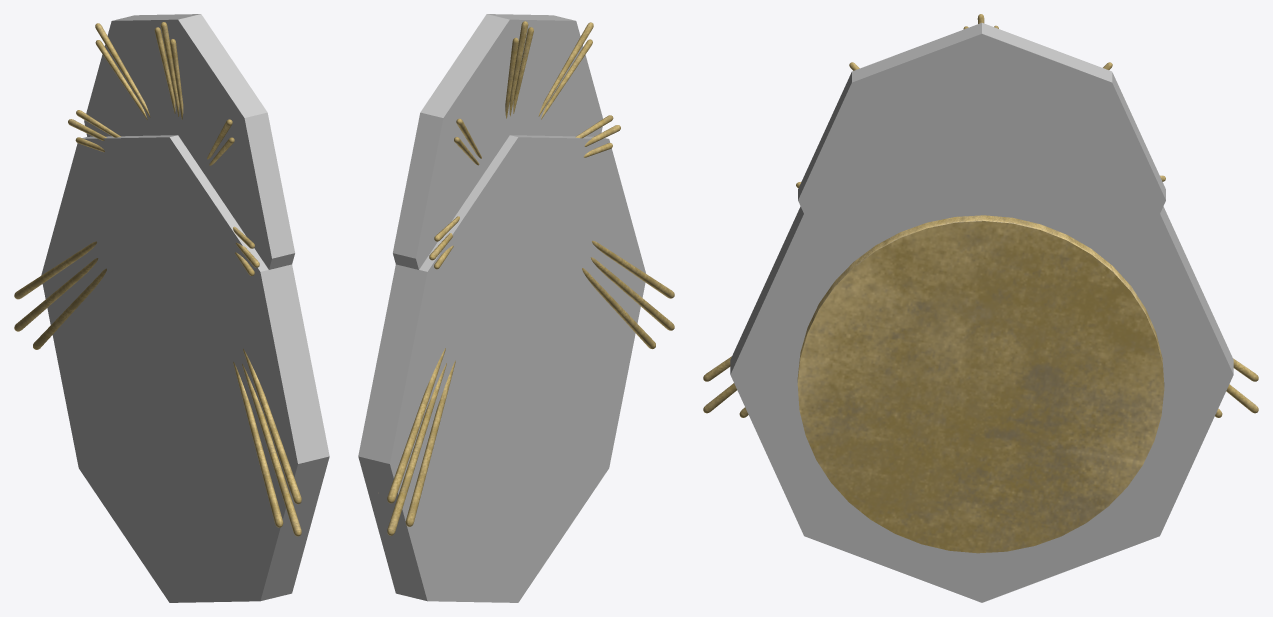
Rendered from SM_Buddha_Back_01.fbx.
3 views of the same model, side by side, from view 1: azimuth 30°, elevation 25°; view 2: azimuth 150°, elevation 25°; view 3: azimuth 270°, elevation 25° (orthographic). The views are drawn at different scales.
Visible parts, largest first — view 1: SM_Buddha_Back_01_ConvexHulls, SM_Buddha_Back_01; view 2: SM_Buddha_Back_01_ConvexHulls, SM_Buddha_Back_01; view 3: SM_Buddha_Back_01_ConvexHulls, SM_Buddha_Back_01.
Part boxes in pixels (bbox=[...]): SM_Buddha_Back_01_ConvexHulls: bbox=[41, 14, 329, 602]; SM_Buddha_Back_01: bbox=[14, 22, 301, 536]; SM_Buddha_Back_01_ConvexHulls: bbox=[358, 14, 645, 602]; SM_Buddha_Back_01: bbox=[378, 21, 674, 535]; SM_Buddha_Back_01_ConvexHulls: bbox=[730, 23, 1233, 602]; SM_Buddha_Back_01: bbox=[703, 14, 1258, 553].
Size of the model in its own units: 53.48 by 444 by 503.
2 materials, 1 textured.
